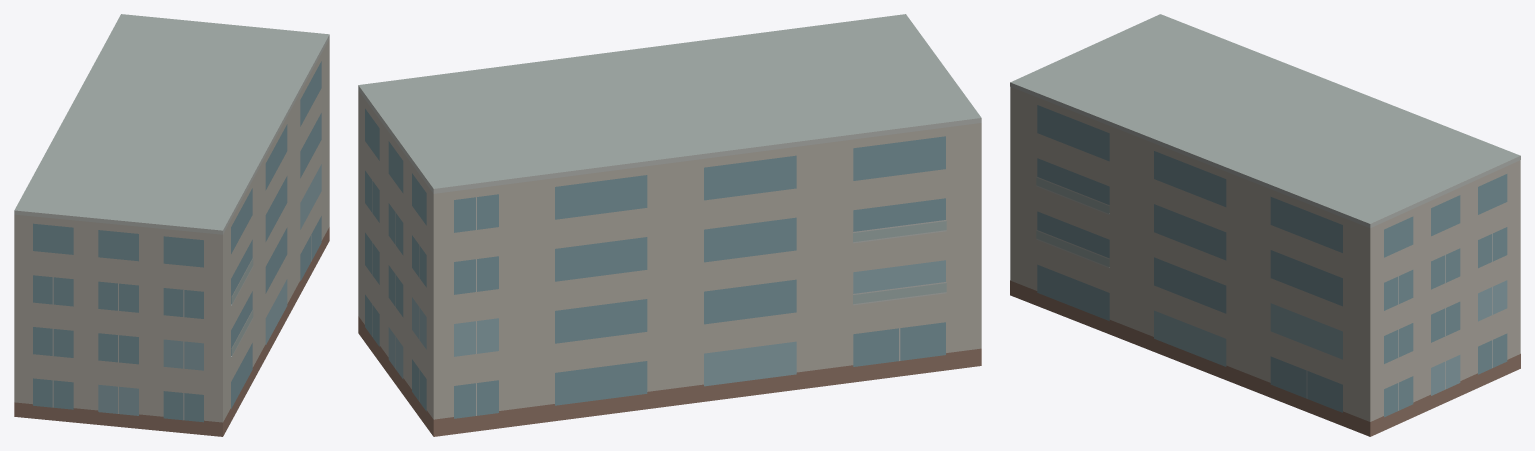
The model's file is residential-db6a18ab-942c-446c-a0e9-fb8c2398552b.glb.
3 renders of one model, left to right at view 1: azimuth 30°, elevation 25°; view 2: azimuth 150°, elevation 25°; view 3: azimuth 270°, elevation 25°, orthographic. The views are drawn at different scales.
Visible parts, largest first — view 1: residential-db6a18ab-942c-446c-a0e9-fb8c2398552b.tmp; view 2: residential-db6a18ab-942c-446c-a0e9-fb8c2398552b.tmp; view 3: residential-db6a18ab-942c-446c-a0e9-fb8c2398552b.tmp.
Part boxes in pixels (x1,y1,x2,y2): residential-db6a18ab-942c-446c-a0e9-fb8c2398552b.tmp: [14, 14, 329, 436]; residential-db6a18ab-942c-446c-a0e9-fb8c2398552b.tmp: [358, 14, 981, 436]; residential-db6a18ab-942c-446c-a0e9-fb8c2398552b.tmp: [1010, 14, 1520, 436].
Size of the model in its own units: 25.82 by 12.2 by 26.53.
